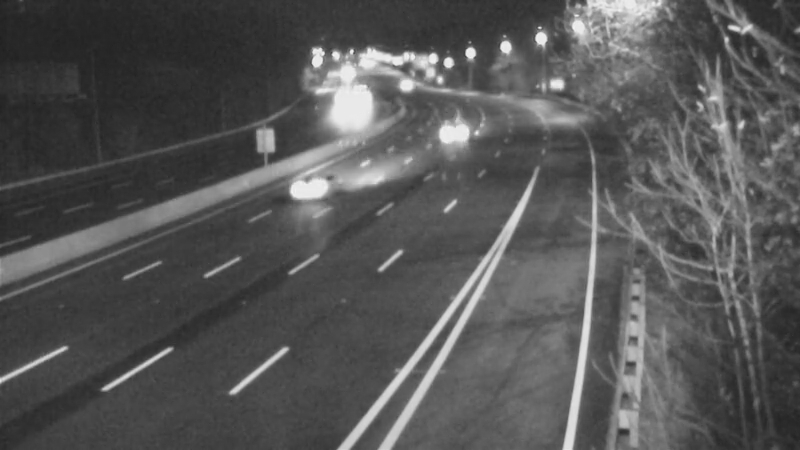vehicle: (266, 149, 346, 229), (1, 384, 56, 450), (376, 56, 426, 106), (435, 107, 485, 157), (318, 90, 368, 140)
